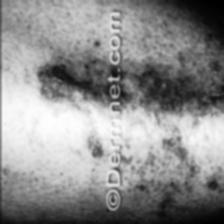Unclassified: (35, 67, 71, 115), (197, 75, 224, 110), (159, 130, 183, 160)
